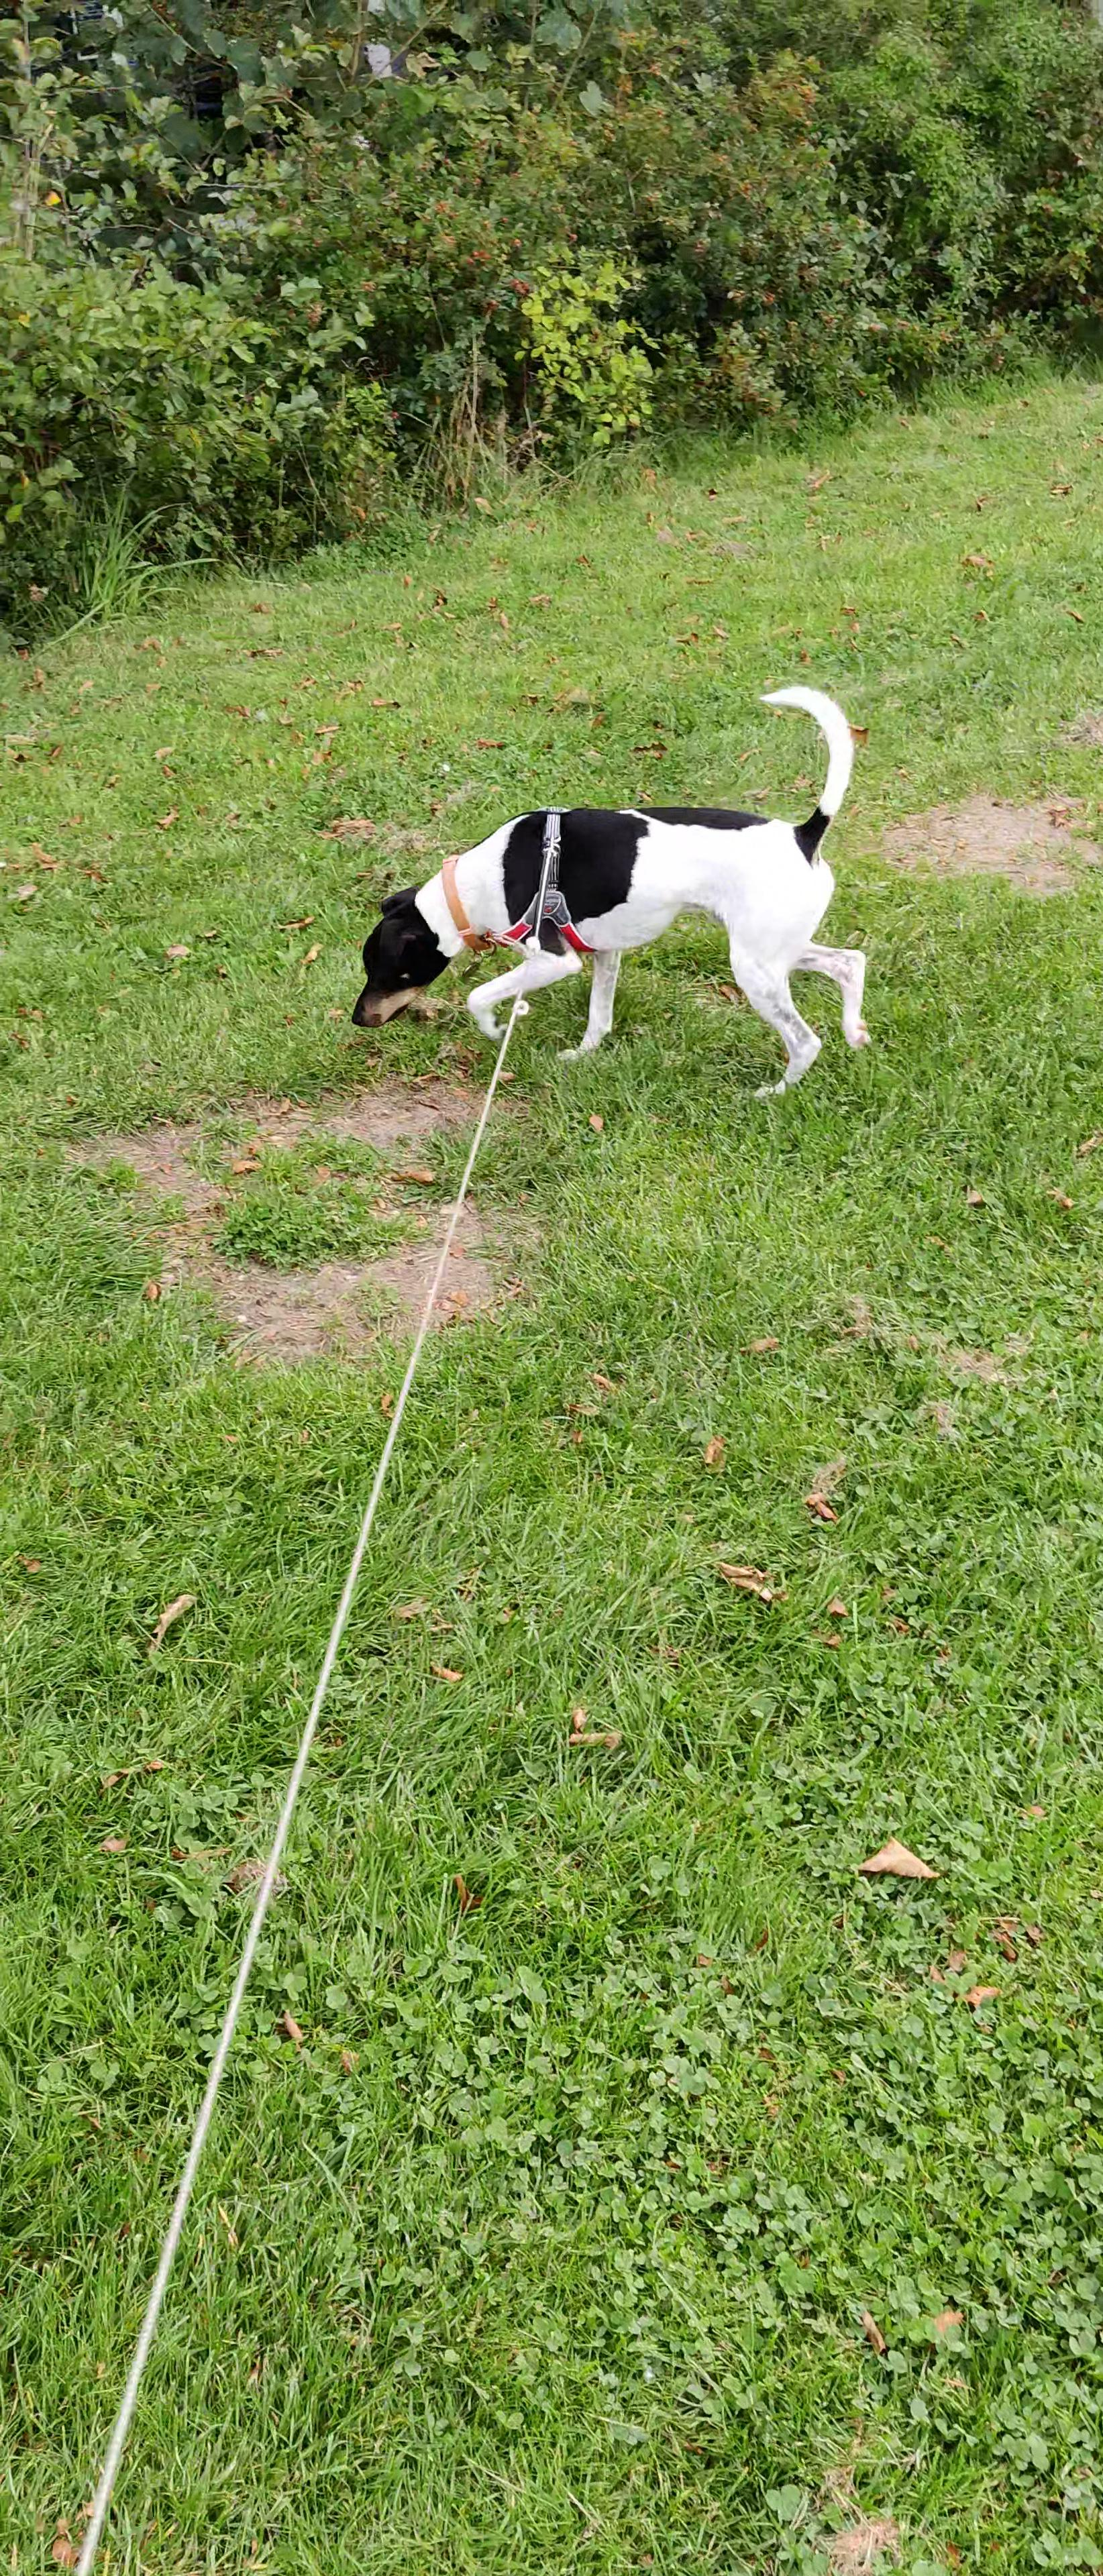Dog: (335, 680, 878, 1106)
